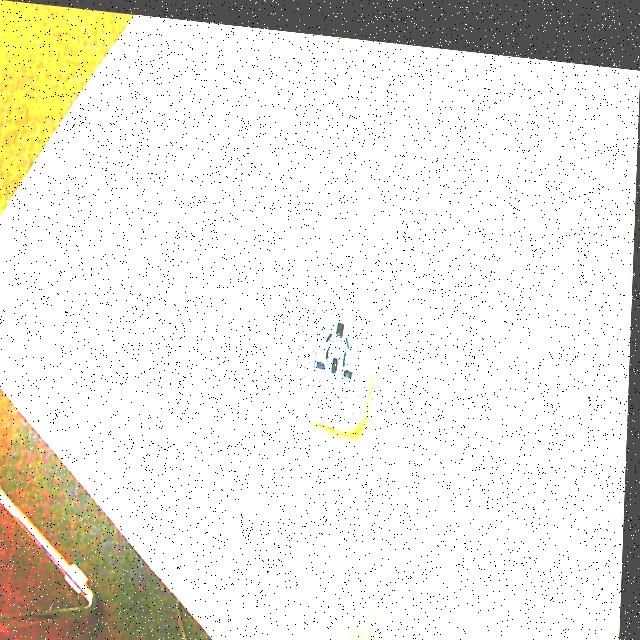adapter: (295, 295, 378, 426)
